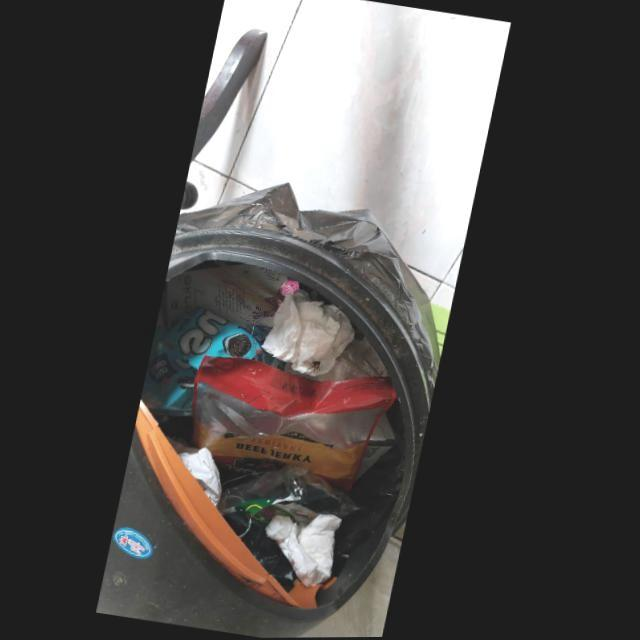food_wrapper: (197, 356, 402, 491)
paper: (265, 290, 359, 376), (271, 514, 349, 588)
